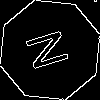N: (25, 25, 79, 73)
